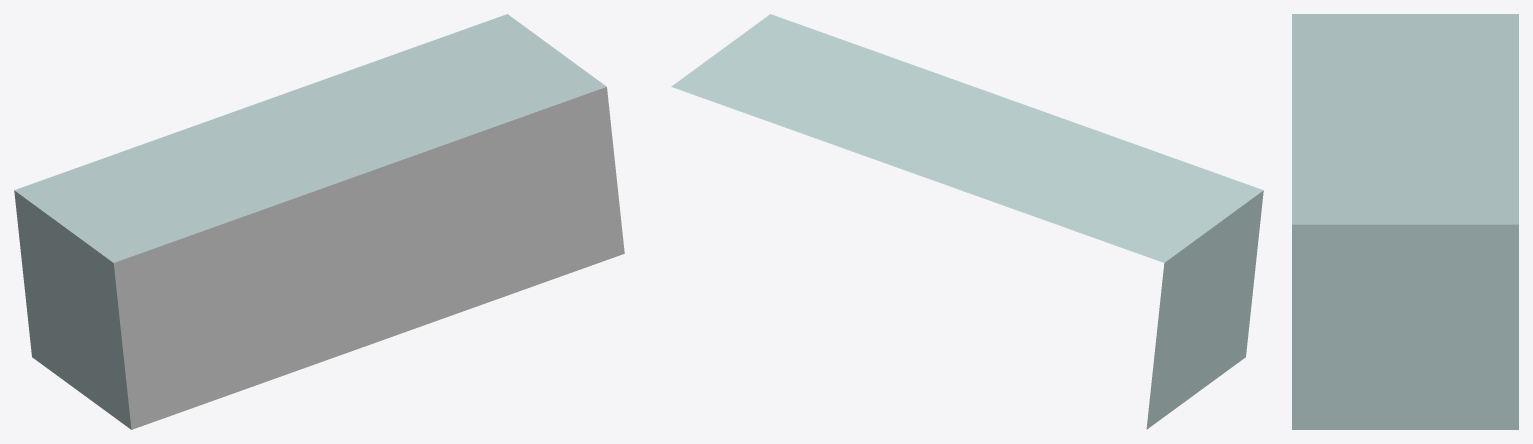
The picture shows the model from 3 angles, left to right: view 1: azimuth 30°, elevation 25°; view 2: azimuth 150°, elevation 25°; view 3: azimuth 270°, elevation 25°; orthographic projection. The views are drawn at different scales.
Parts seen in each view (by area): view 1: 0_0_2_0_2_3_1_1_1; view 2: 0_0_2_0_2_3_1_1_1; view 3: 0_0_2_0_2_3_1_1_1.
Part boxes in pixels (x1,y1,x2,y2): 0_0_2_0_2_3_1_1_1: (14, 14, 624, 429); 0_0_2_0_2_3_1_1_1: (671, 14, 1263, 429); 0_0_2_0_2_3_1_1_1: (1292, 14, 1518, 429).
Size of the model in its own units: 8.9 by 3.78 by 3.
